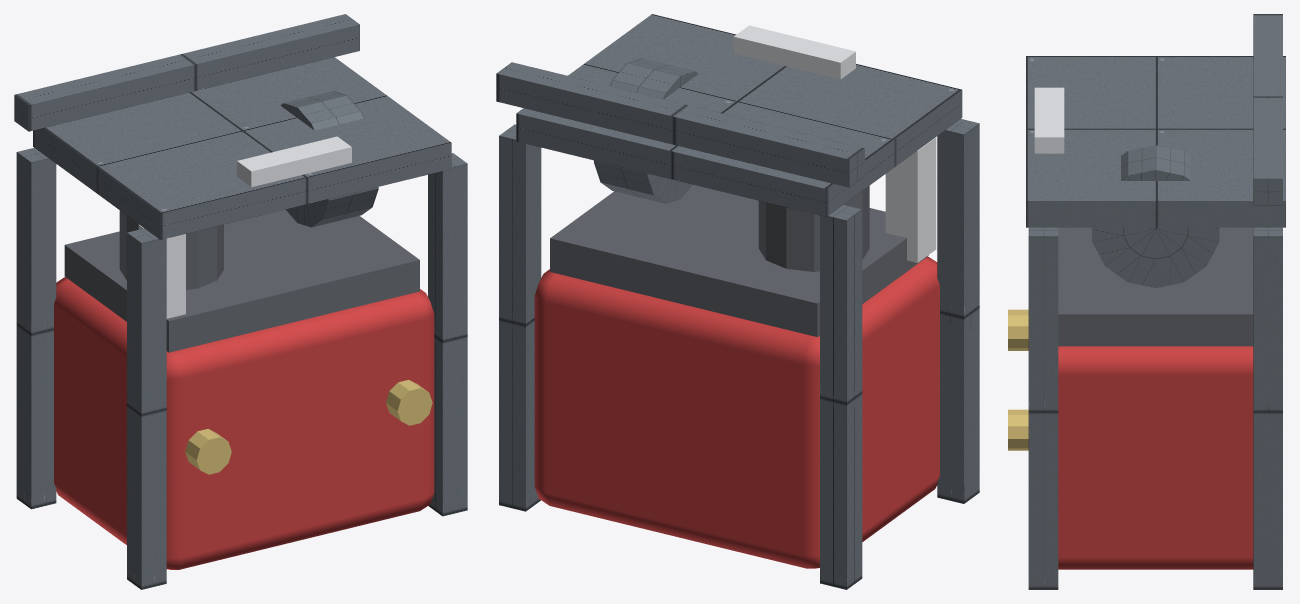
The model's file is fire-and-emergency-services-rescue-tool-power-unit-e343d693__29921.glb.
The picture shows the model from 3 angles, left to right: view 1: azimuth 30°, elevation 25°; view 2: azimuth 150°, elevation 25°; view 3: azimuth 270°, elevation 25°; orthographic projection. The views are drawn at different scales.
Visible parts, largest first — view 1: rescue-tool-power-unit, lid/tread, lid/chrome; view 2: rescue-tool-power-unit, lid/tread, lid/chrome; view 3: rescue-tool-power-unit, lid/tread, lid/chrome.
Part boxes in pixels (box(x1,y1,x2,y2)): rescue-tool-power-unit: box(14, 14, 467, 589); lid/tread: box(33, 57, 451, 239); lid/chrome: box(237, 136, 351, 187); rescue-tool-power-unit: box(496, 58, 979, 589); lid/tread: box(516, 14, 962, 216); lid/chrome: box(733, 25, 855, 79); rescue-tool-power-unit: box(1008, 14, 1282, 589); lid/tread: box(1026, 56, 1285, 227); lid/chrome: box(1034, 87, 1064, 153).
Bounding box in the file's own units: 0.66 × 0.77 × 0.47.
5 materials, 1 textured.
